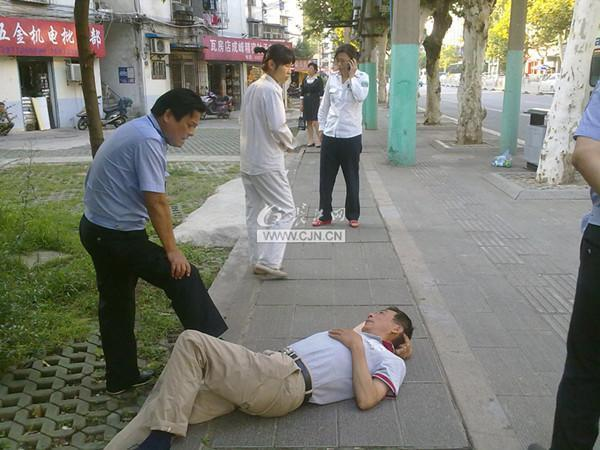Fall-Detected: (50, 293, 434, 450)
